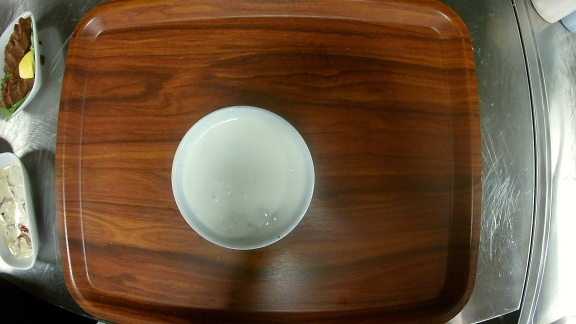cacik: (171, 104, 316, 251)
